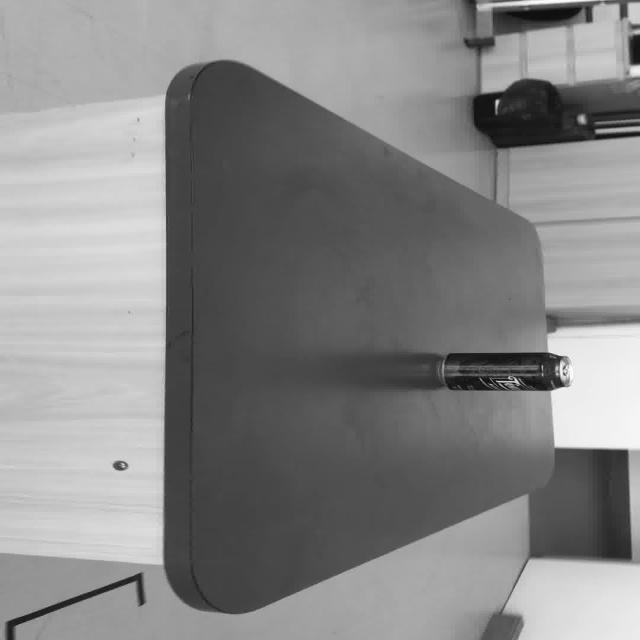tonic: (316, 350, 572, 391), (437, 351, 572, 391)
